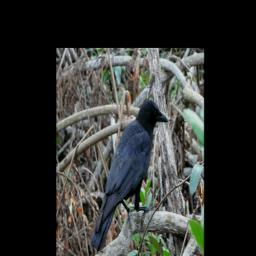Crow: (90, 98, 169, 256)
